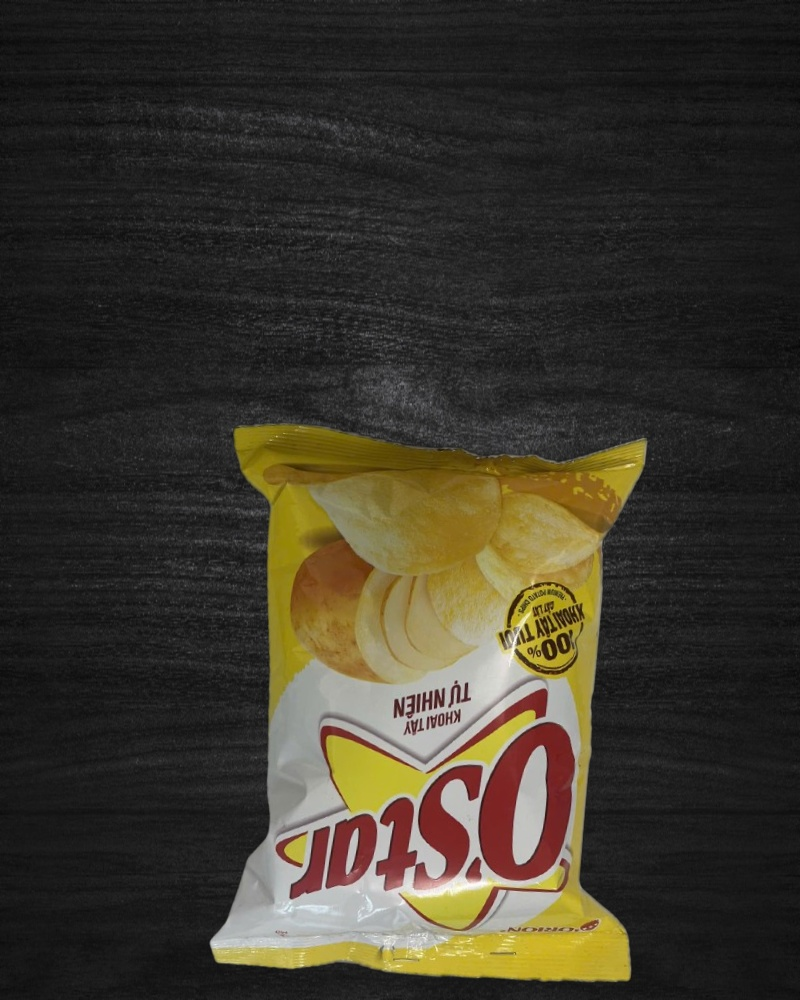Snack cua: (193, 409, 676, 993)
